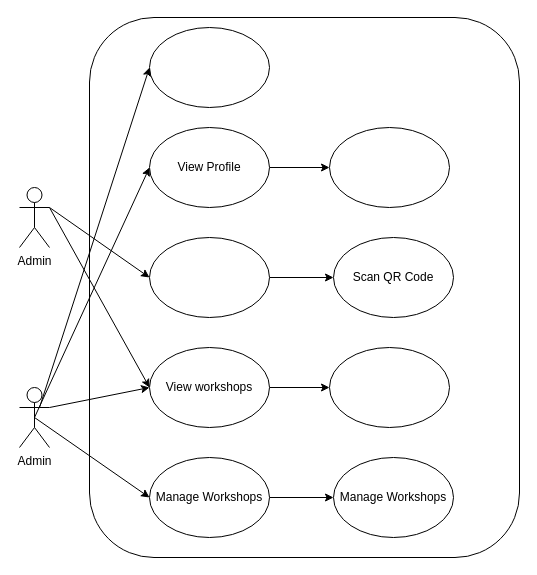
This 537x575 diagram has some shape labels left out. Here are the shapes that lost their labels. From the top down, the centre of each, then its label:
At (209,67): "Register & Login".
At (389,167): "Edit Profile".
At (209,277): "View certificates".
At (389,387): "Register for a workshop".
